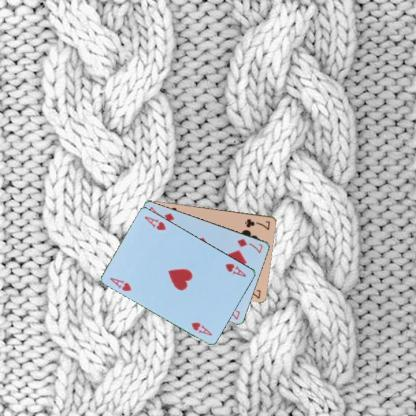7c: (242, 216, 272, 231)
7d: (235, 236, 264, 254)
Ah: (223, 260, 248, 278), (107, 274, 132, 292)
